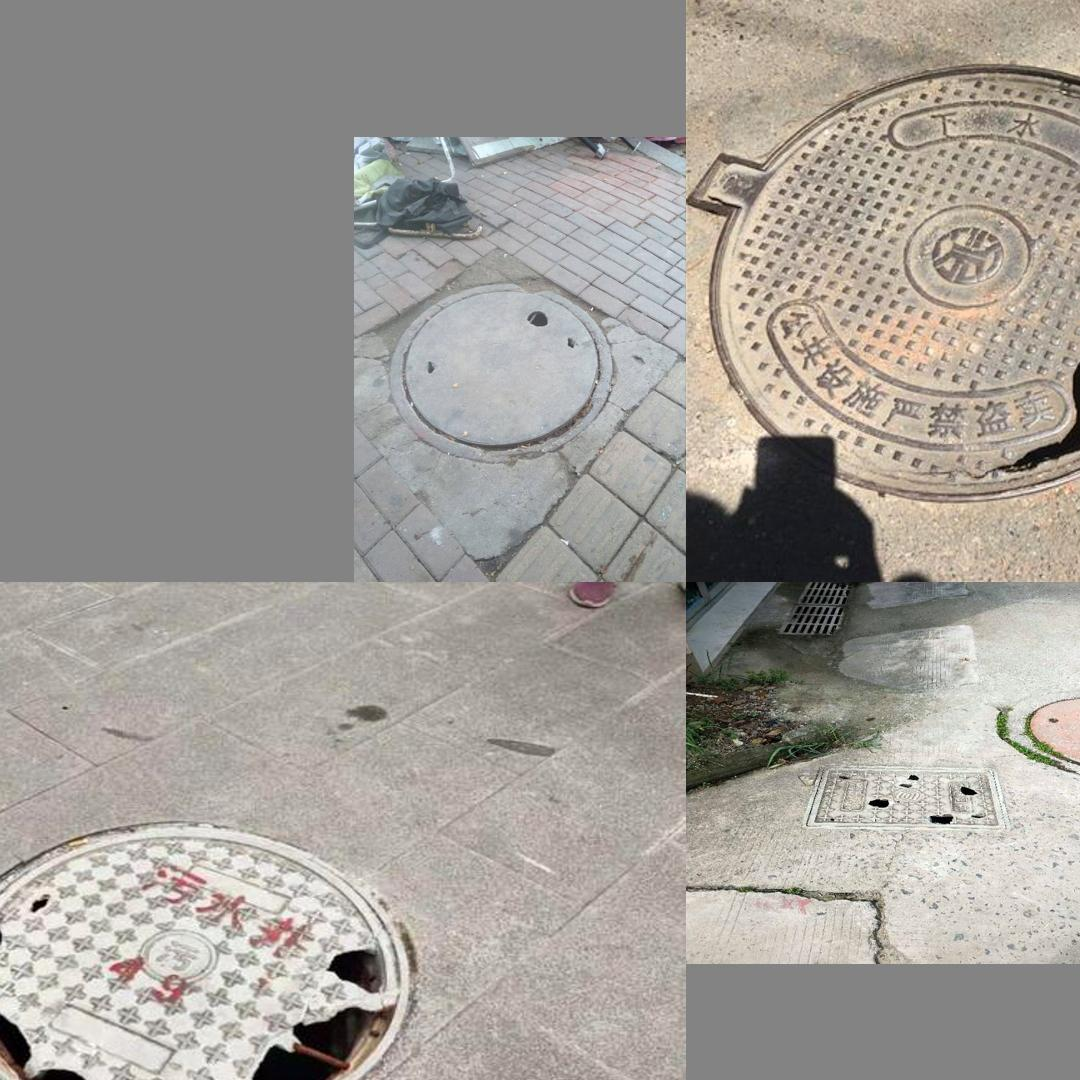broke: (697, 38, 1080, 497), (0, 803, 439, 1080), (386, 283, 614, 464), (803, 765, 1009, 830)
